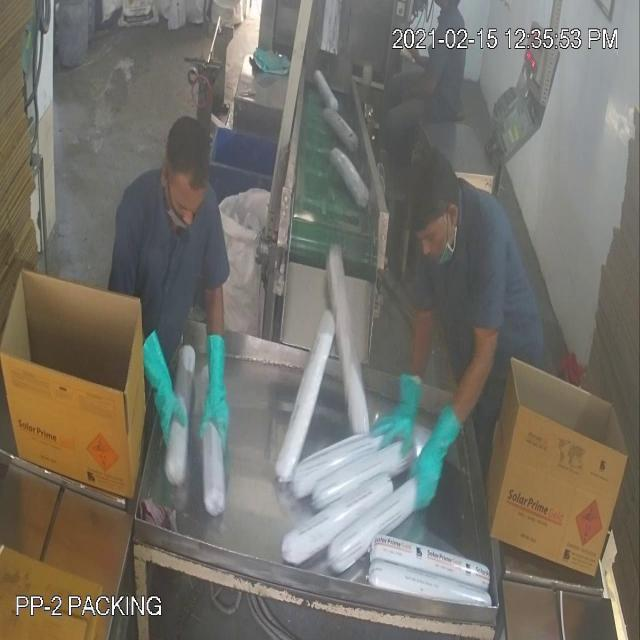Gloves: (54, 116, 434, 458)
